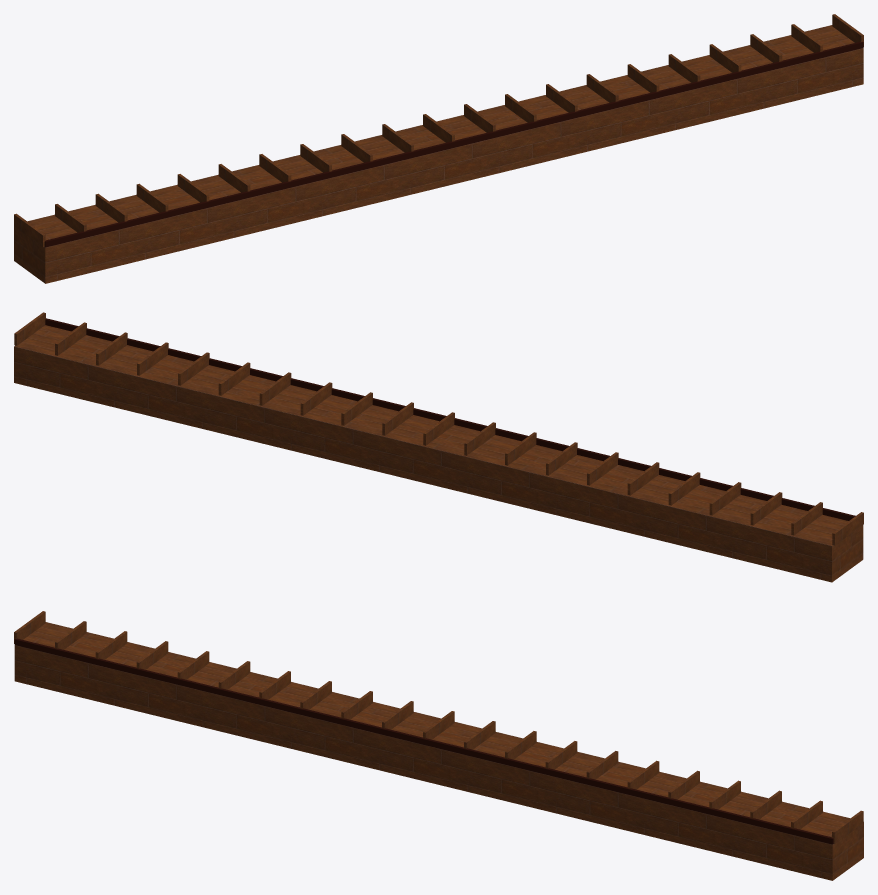
The model's file is huojia3.FBX.
The picture shows the model from 3 angles, top to bottom: view 1: azimuth 30°, elevation 25°; view 2: azimuth 150°, elevation 25°; view 3: azimuth 330°, elevation 25°; orthographic projection.
Parts seen in each view (by area): view 1: huojia7; view 2: huojia7; view 3: huojia7.
Boxes of the visible parts, x1,y1,x2,y2 form: huojia7: (14, 14, 863, 283); huojia7: (14, 312, 863, 582); huojia7: (14, 611, 863, 880).
Size of the model in its own units: 2127 by 119 by 141.
